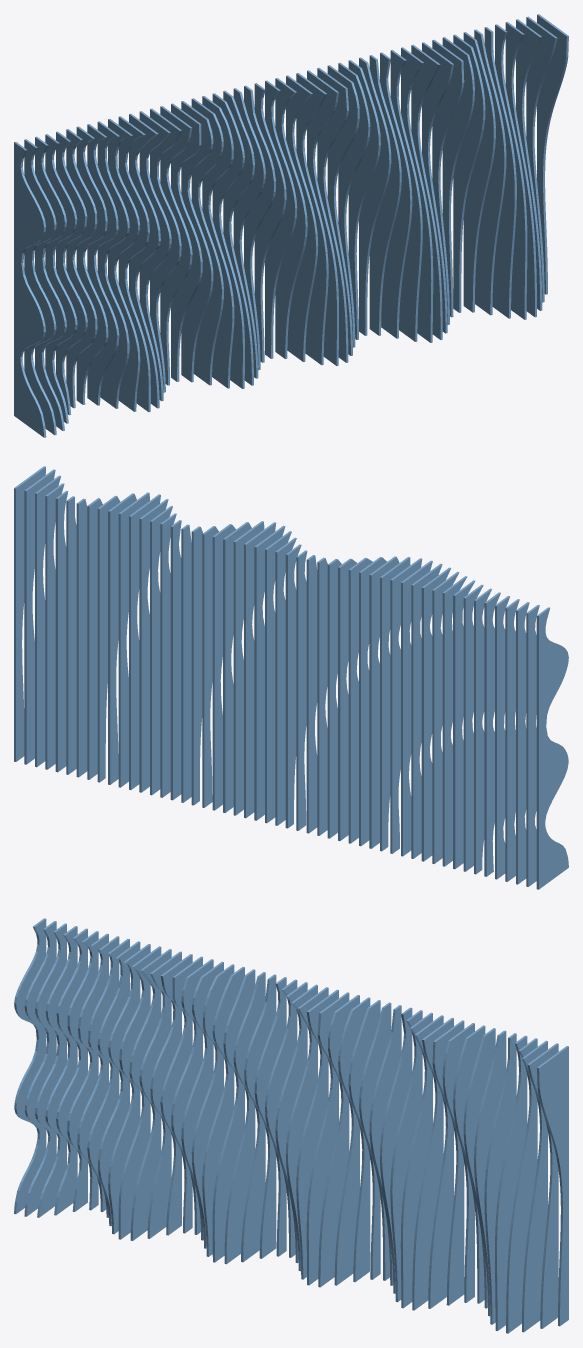
The model's file is mod500-250-0-0.glb.
3 renders of one model, top to bottom at view 1: azimuth 30°, elevation 25°; view 2: azimuth 150°, elevation 25°; view 3: azimuth 330°, elevation 25°, orthographic.
Parts seen in each view (by area): view 1: no_transformations; view 2: no_transformations; view 3: no_transformations.
Part boxes in pixels (left/top/right/bottom): no_transformations: left=14, top=14, right=568, bottom=437; no_transformations: left=14, top=466, right=568, bottom=889; no_transformations: left=14, top=918, right=568, bottom=1333.
Bounding box in the file's own units: 502 × 250 × 50.
